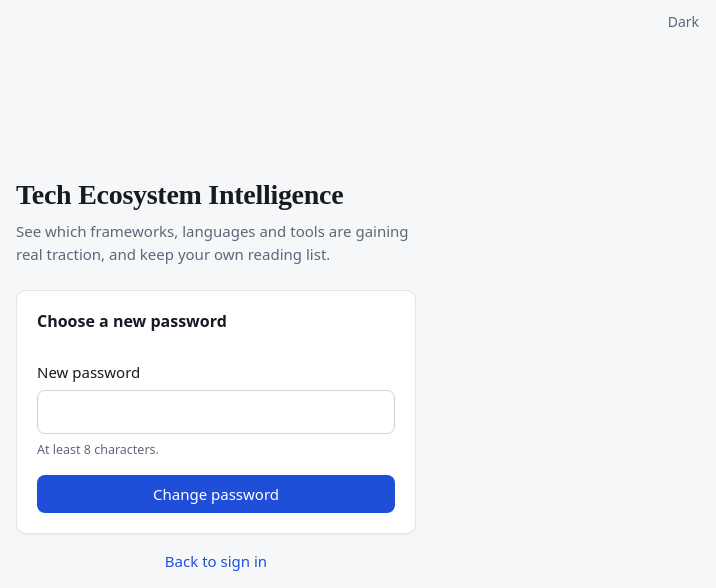
password and email pages › reset password sends the token from the link and the new password
This screenshot has width=716, height=588.
Type "newpassword1" into the password field labelled "New password At least 8 characters." at x=216, y=412, box [37, 390, 395, 434]
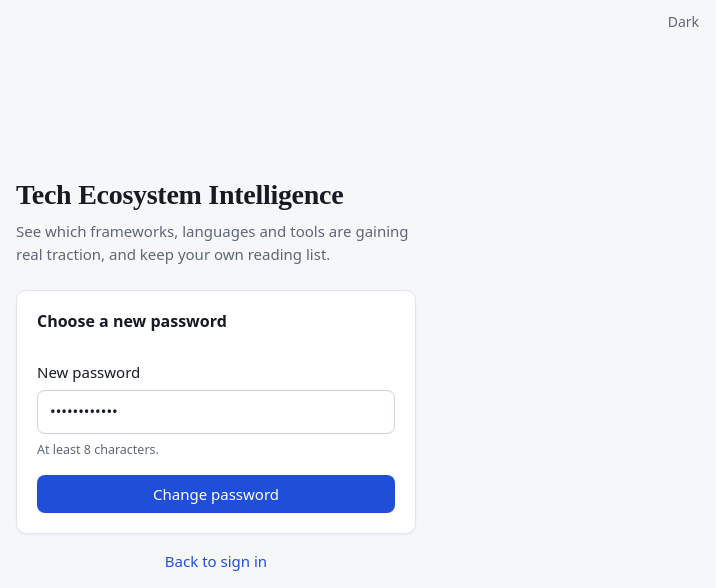
Click the button "Change password" at x=216, y=494, box [37, 475, 395, 513]
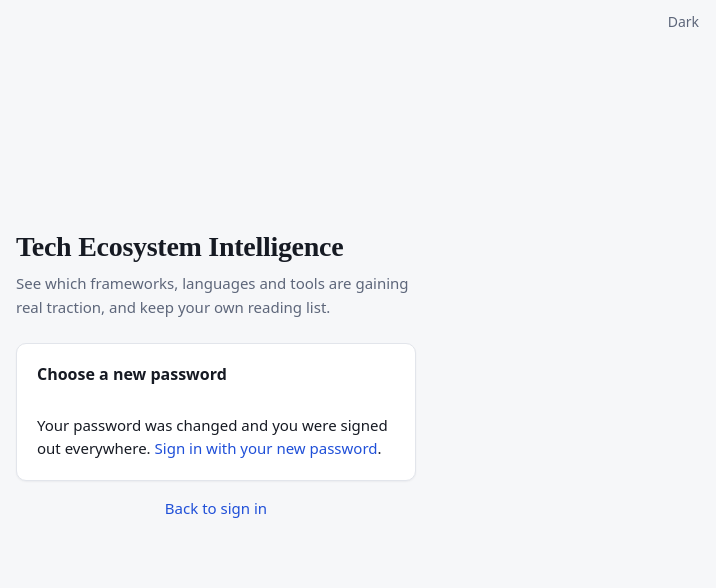
Expected: the text "signed out everywhere" is shown, [37, 415, 388, 458]
